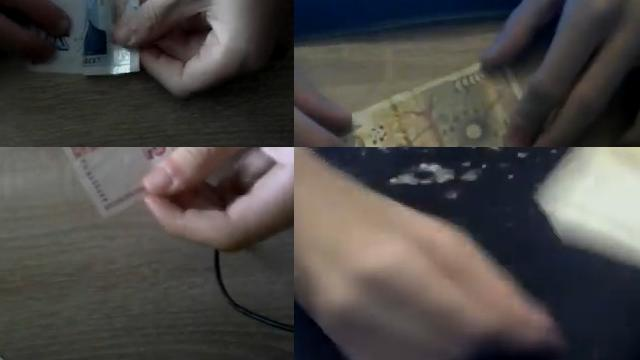10leva: (350, 65, 518, 147), (533, 147, 640, 271)
20leva: (28, 0, 139, 76)
5leva: (59, 147, 181, 219)
